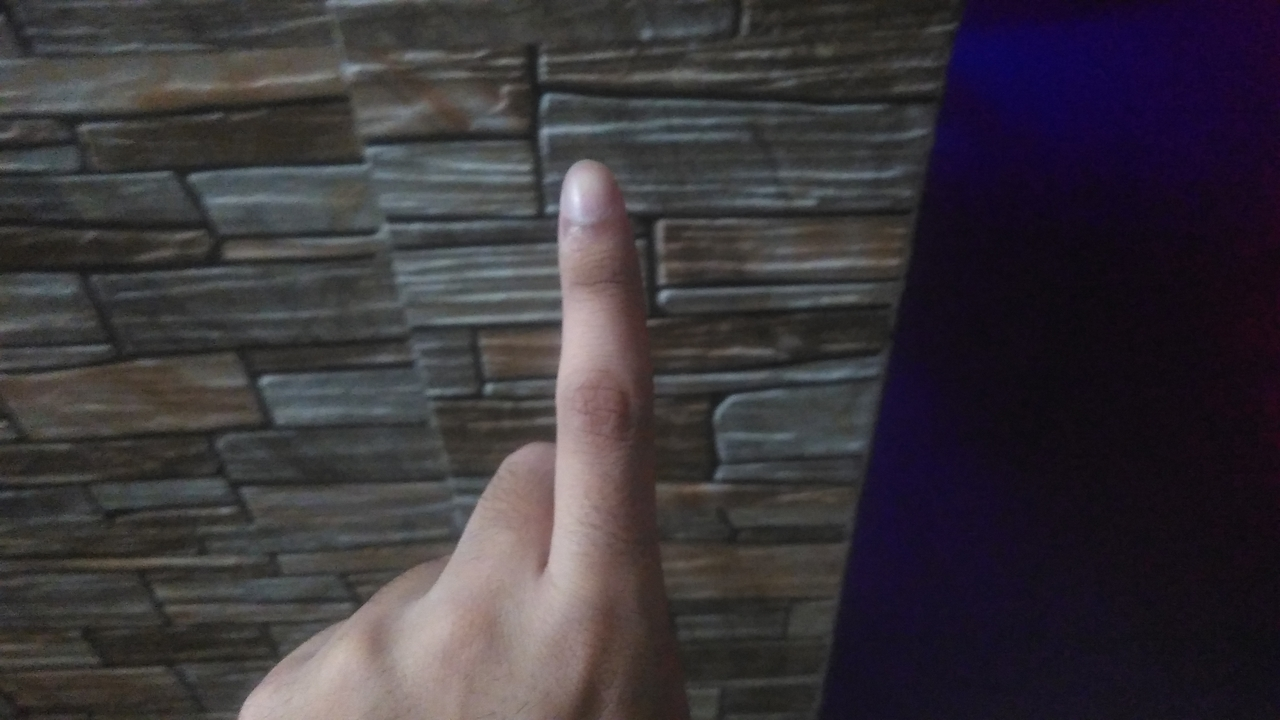fingertip: (552, 158, 624, 228)
